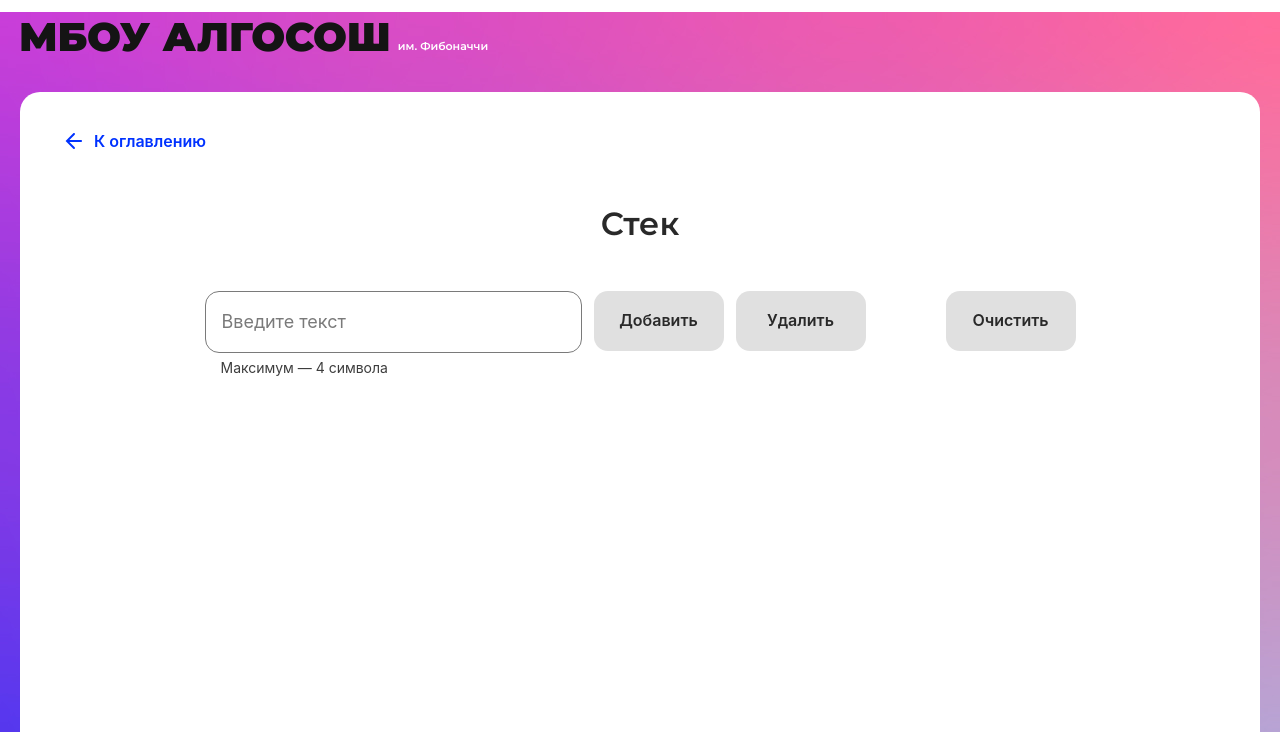
Test case: Тесты для страницы Стек › должен добавить элементы 'a, ab, abc' в стек
Expected: the heading "Стек" is shown, 601,204 -> 679,243
Step 1. Type "a" into the field with placeholder "Введите текст" → (394, 322), box 205,291 -> 582,353
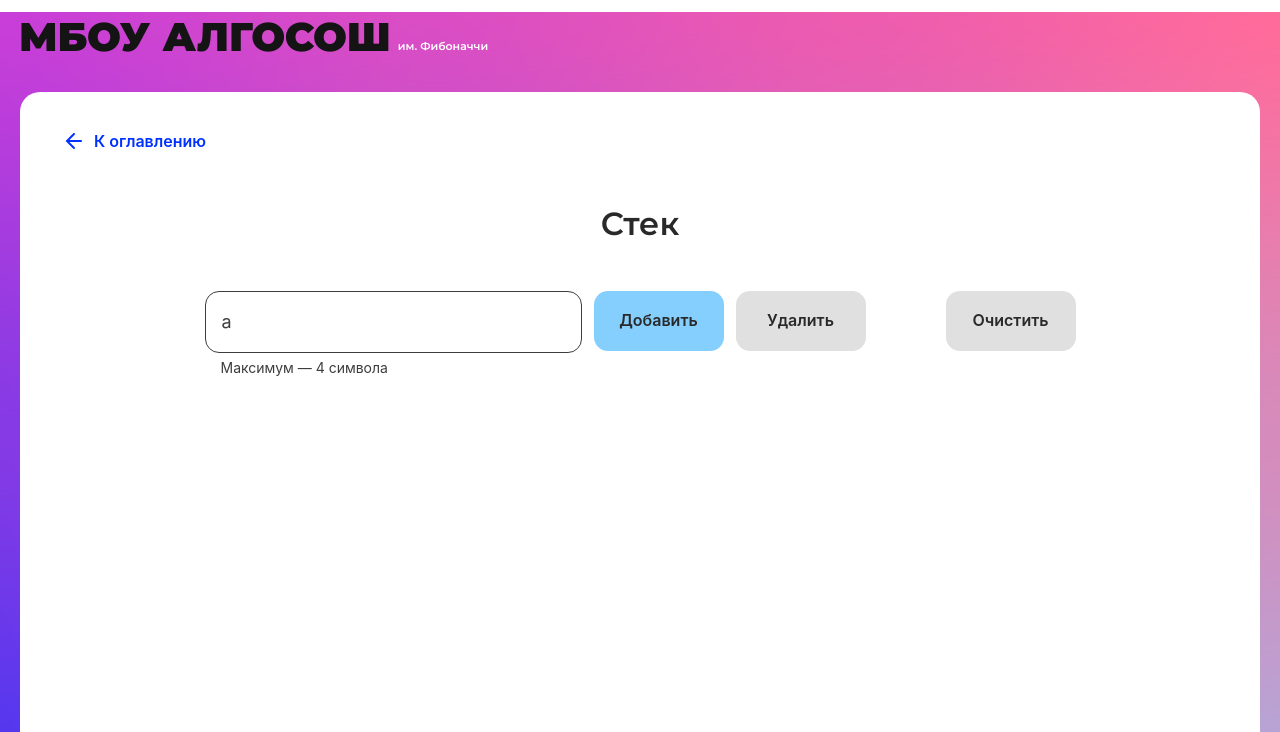
Step 2. Click the button with test id "btnAddItem" → (659, 321), box 594,291 -> 724,351
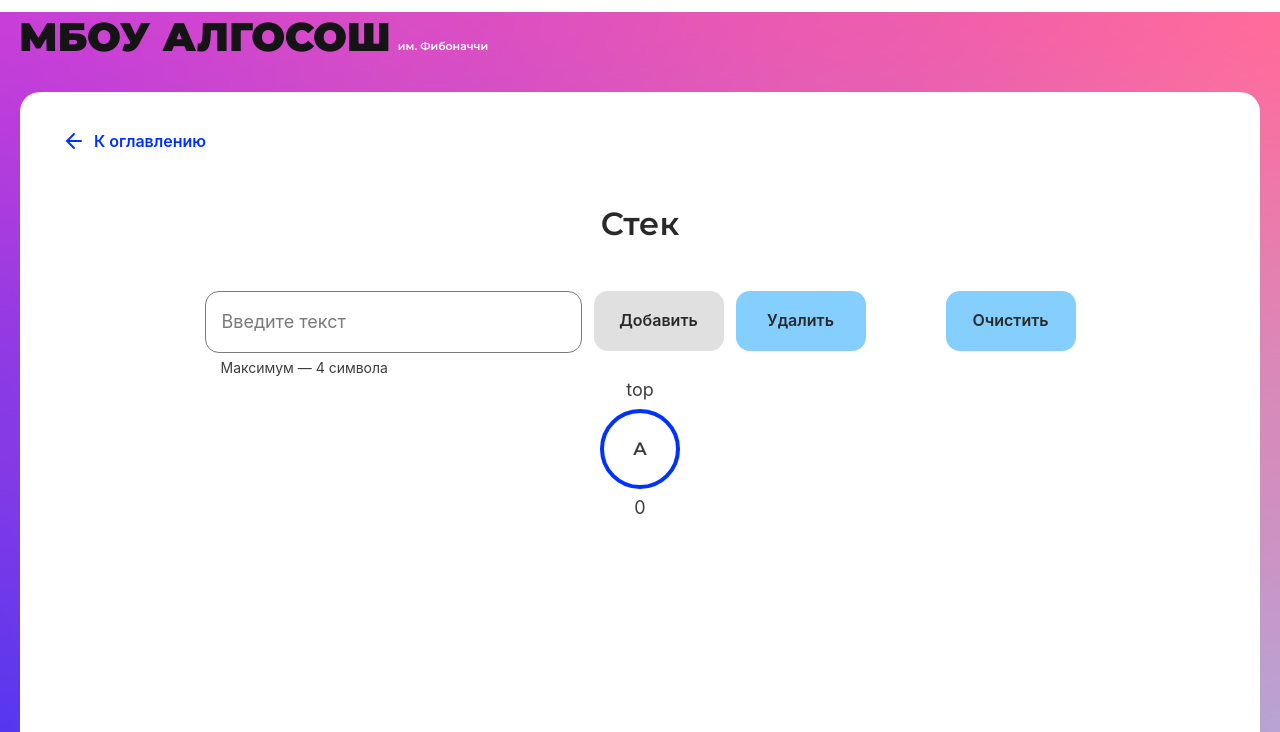
Step 3. Type "ab" into the field with placeholder "Введите текст" → (394, 322), box 205,291 -> 582,353
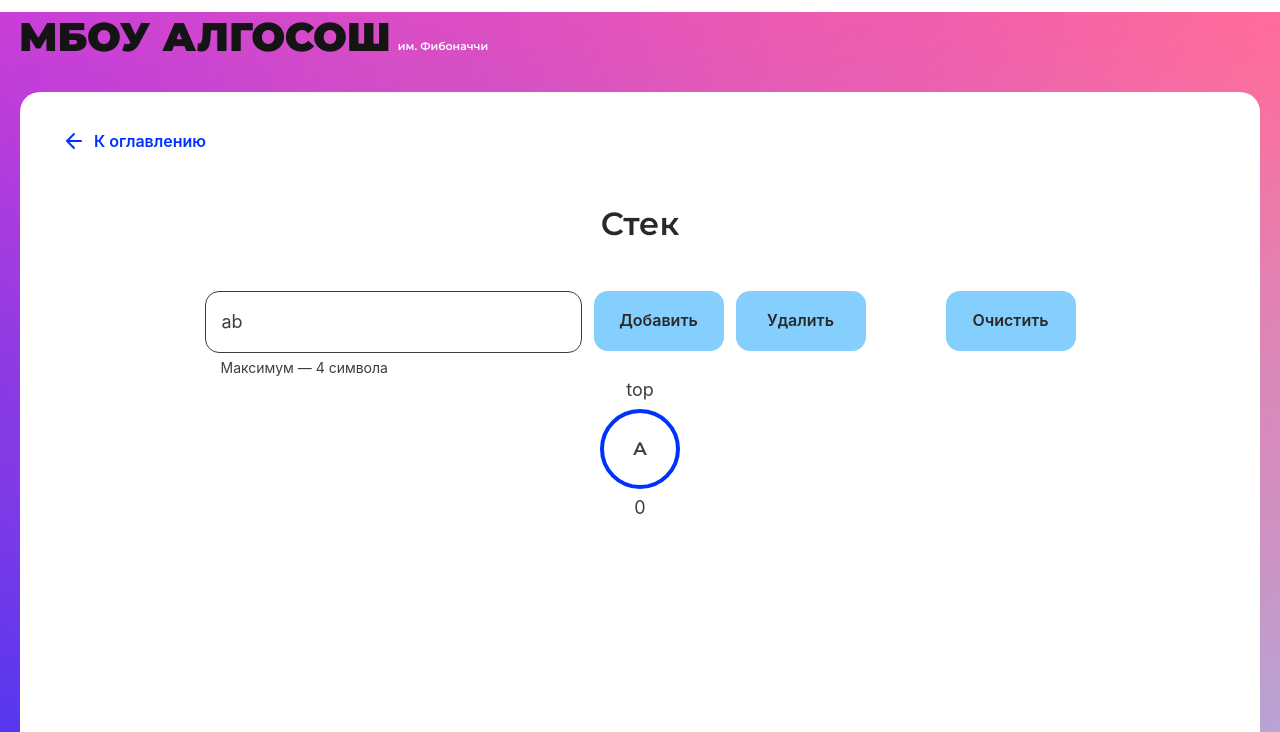
Step 4. Click the button with test id "btnAddItem" → (659, 321), box 594,291 -> 724,351
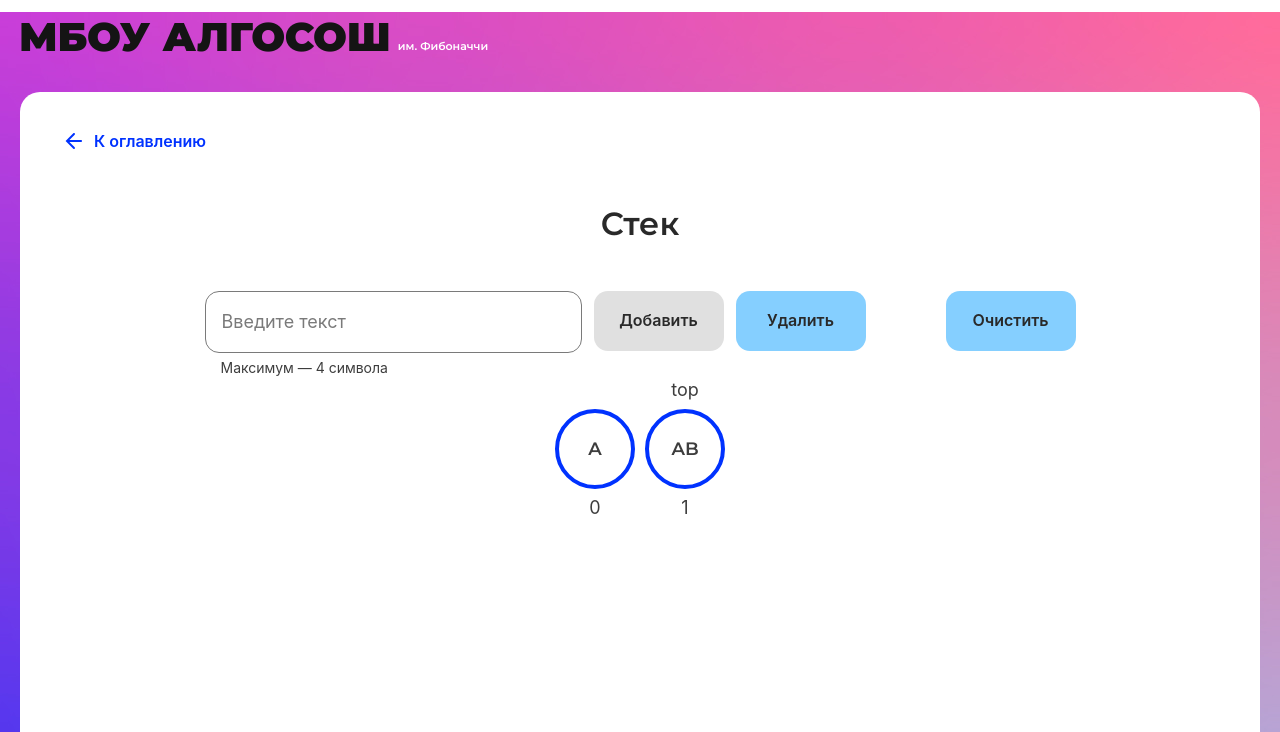
Step 5. Type "abc" into the field with placeholder "Введите текст" → (394, 322), box 205,291 -> 582,353
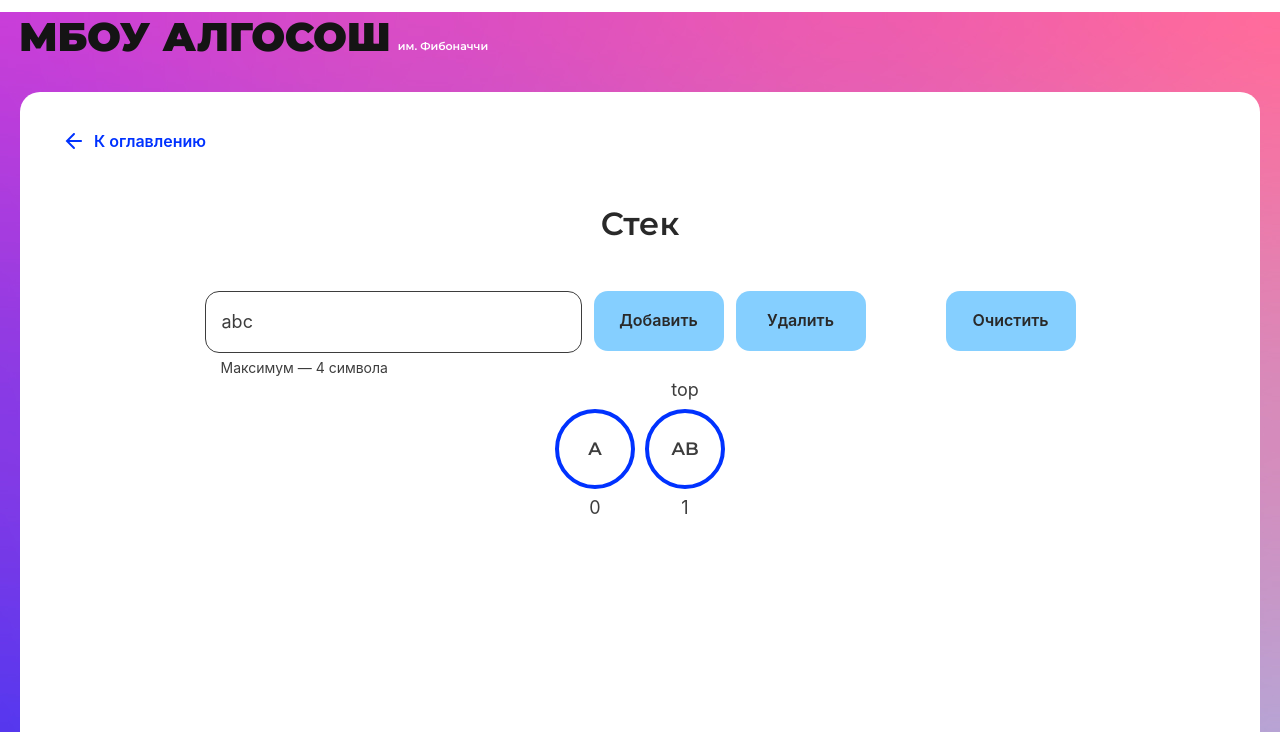
Step 6. Click the button with test id "btnAddItem" → (659, 321), box 594,291 -> 724,351
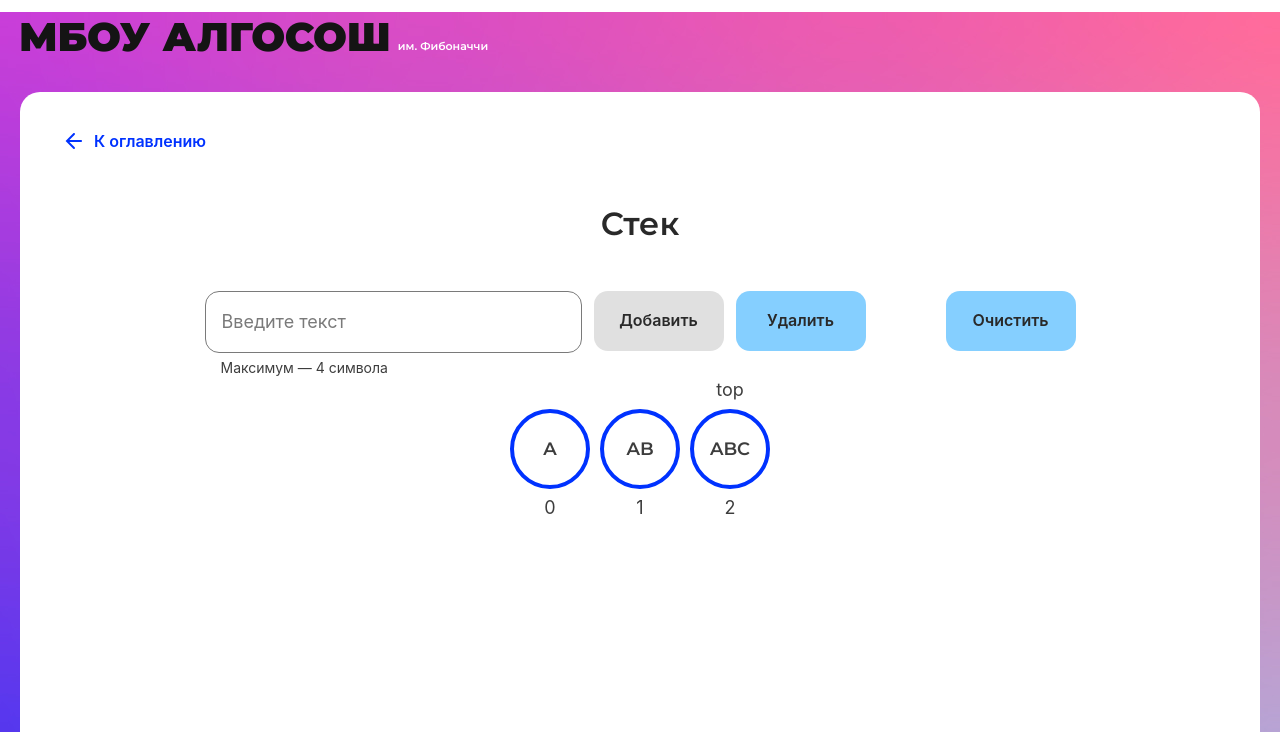
Expected: the number of elements with test id "circle" is 3, 510,409 -> 590,489; 600,409 -> 680,489; 690,409 -> 770,489
